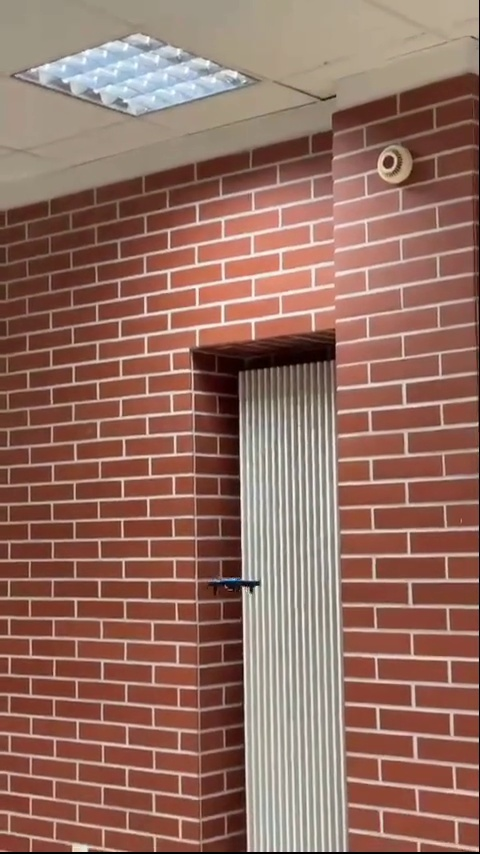drone: (210, 575, 262, 598)
